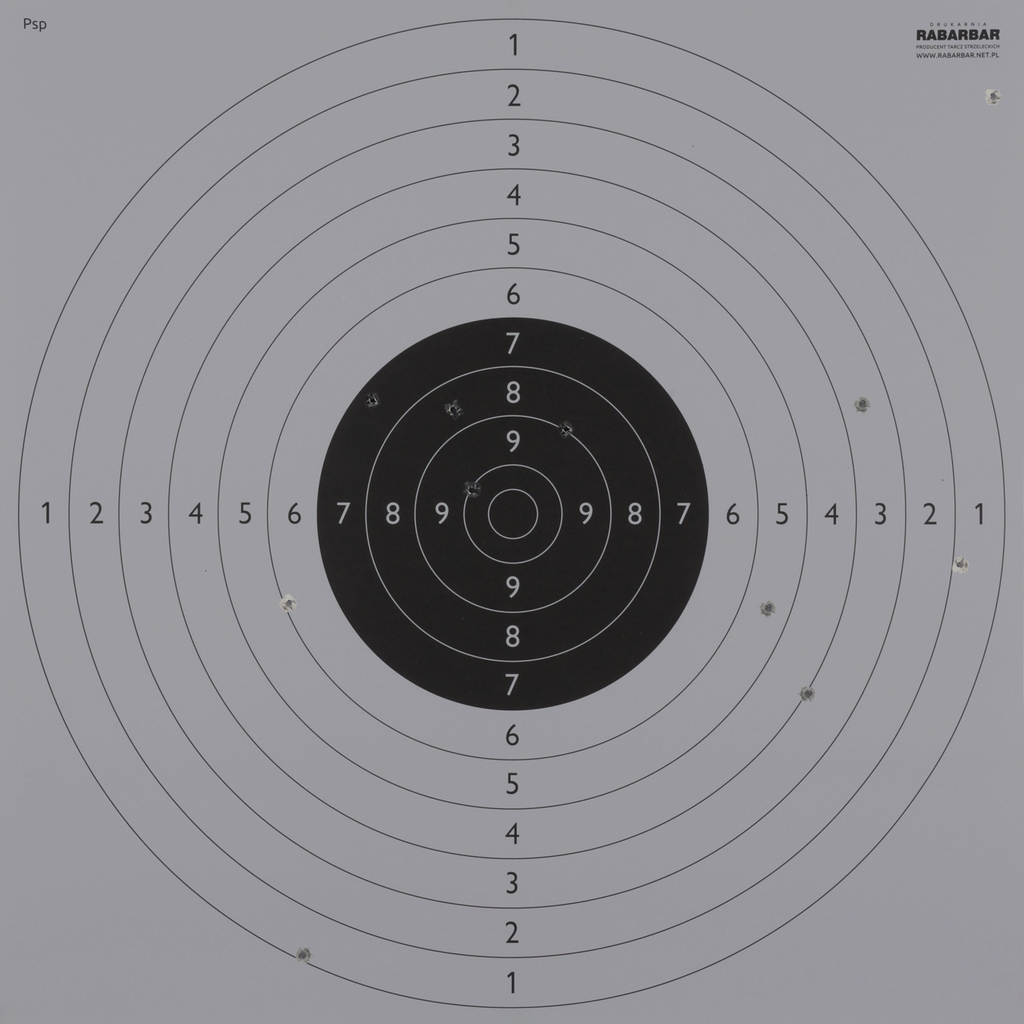0 punktow: (984, 87, 1003, 106)
1 punkt: (294, 946, 312, 965)
10 punktow: (463, 481, 481, 499)
2 punkty: (951, 555, 969, 574)
3 punkty: (853, 395, 872, 414)
4 punkty: (799, 685, 817, 703)
5 punktow: (759, 599, 777, 617)
6 punktow: (280, 594, 298, 613)
7 punktow: (364, 392, 382, 410)
8 punktow: (445, 401, 463, 420)
9 punktow: (557, 420, 576, 439)
